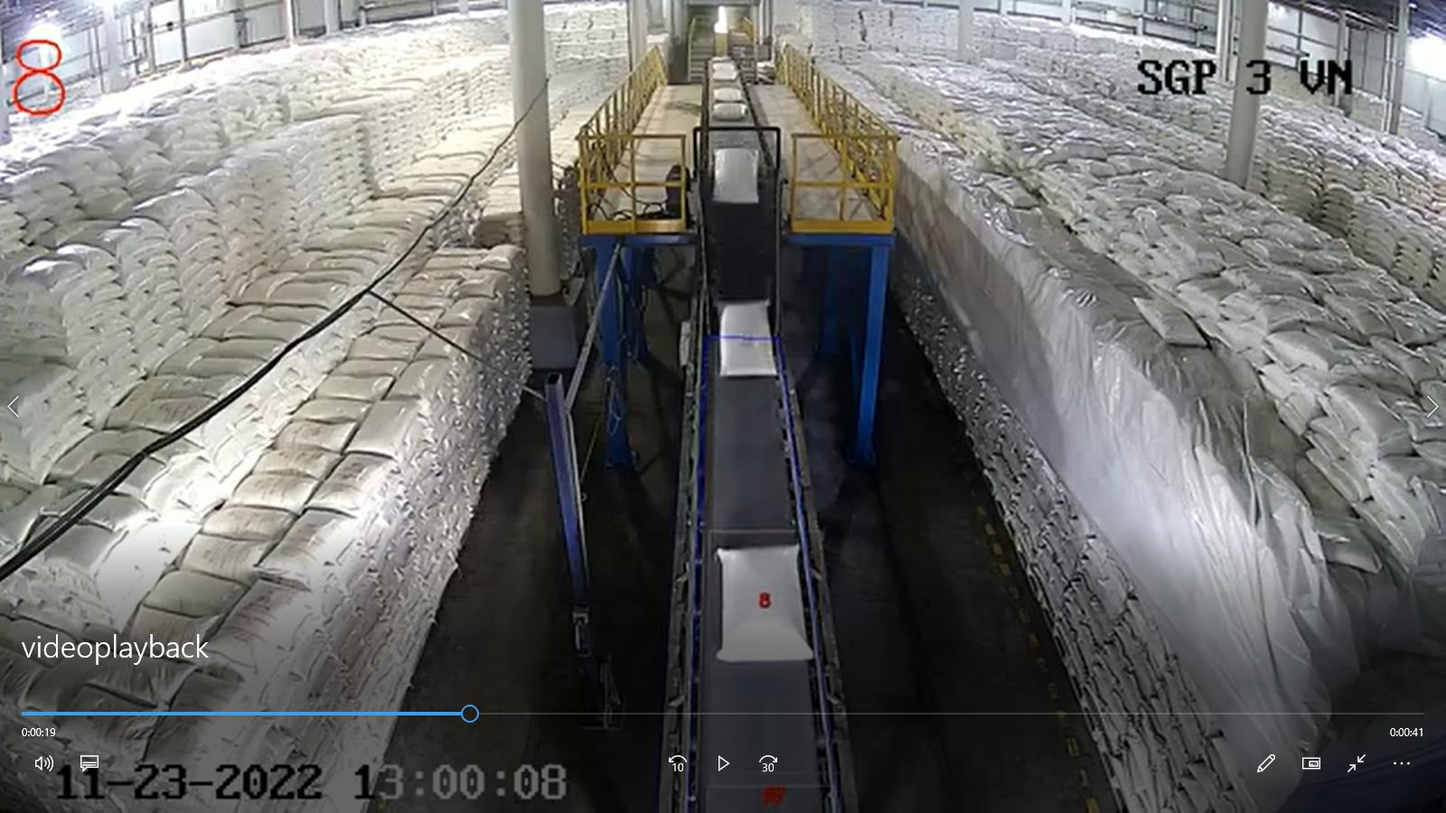rice-bag: (716, 543, 812, 662), (717, 301, 777, 378), (711, 147, 758, 204)
